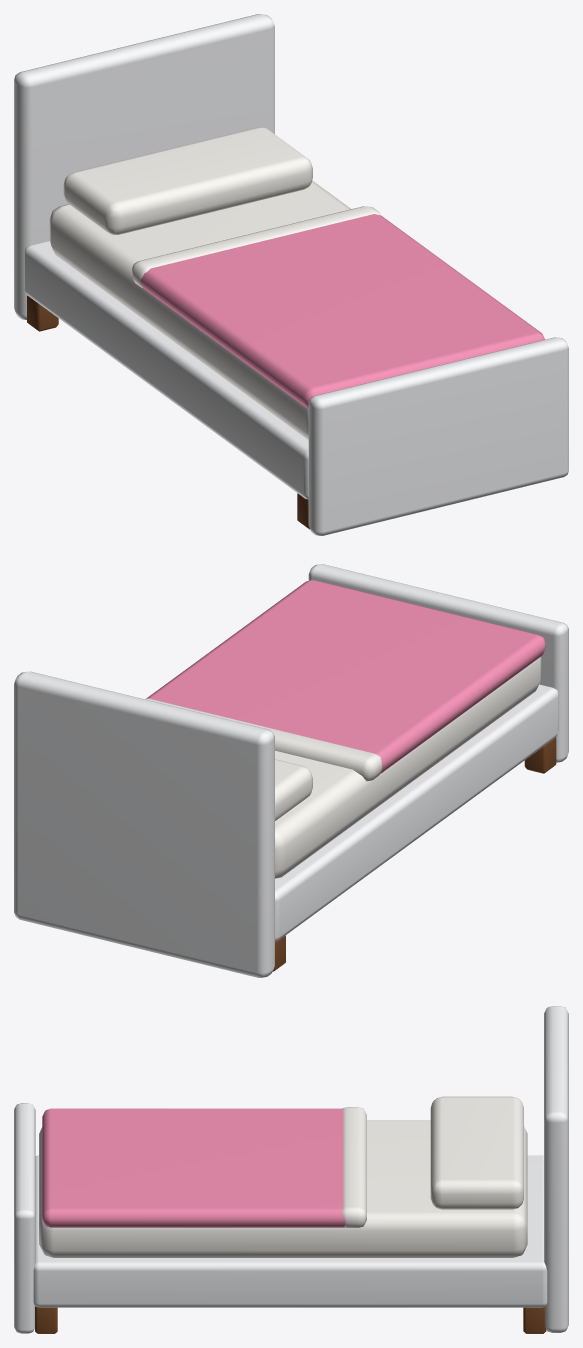
The model's file is KidsBed.fbx.
The picture shows the model from 3 angles, top to bottom: view 1: azimuth 30°, elevation 25°; view 2: azimuth 150°, elevation 25°; view 3: azimuth 270°, elevation 25°; orthographic projection. The views are drawn at different scales.
Visible parts, largest first — view 1: KidsBed; view 2: KidsBed; view 3: KidsBed.
Part boxes in pixels (<box>): KidsBed: <box>14,14,568,535</box>; KidsBed: <box>14,564,568,977</box>; KidsBed: <box>14,1006,568,1333</box>.
Bounding box in the file's own units: 3.7 × 3.4 × 7.73.
1 material, 1 textured.
